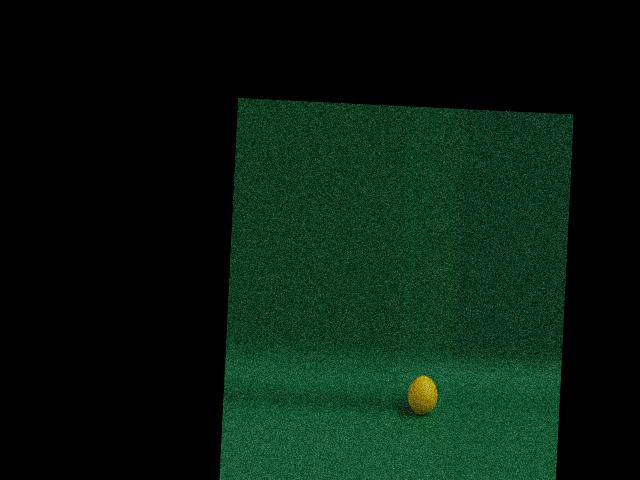egg: (408, 374, 439, 415)
